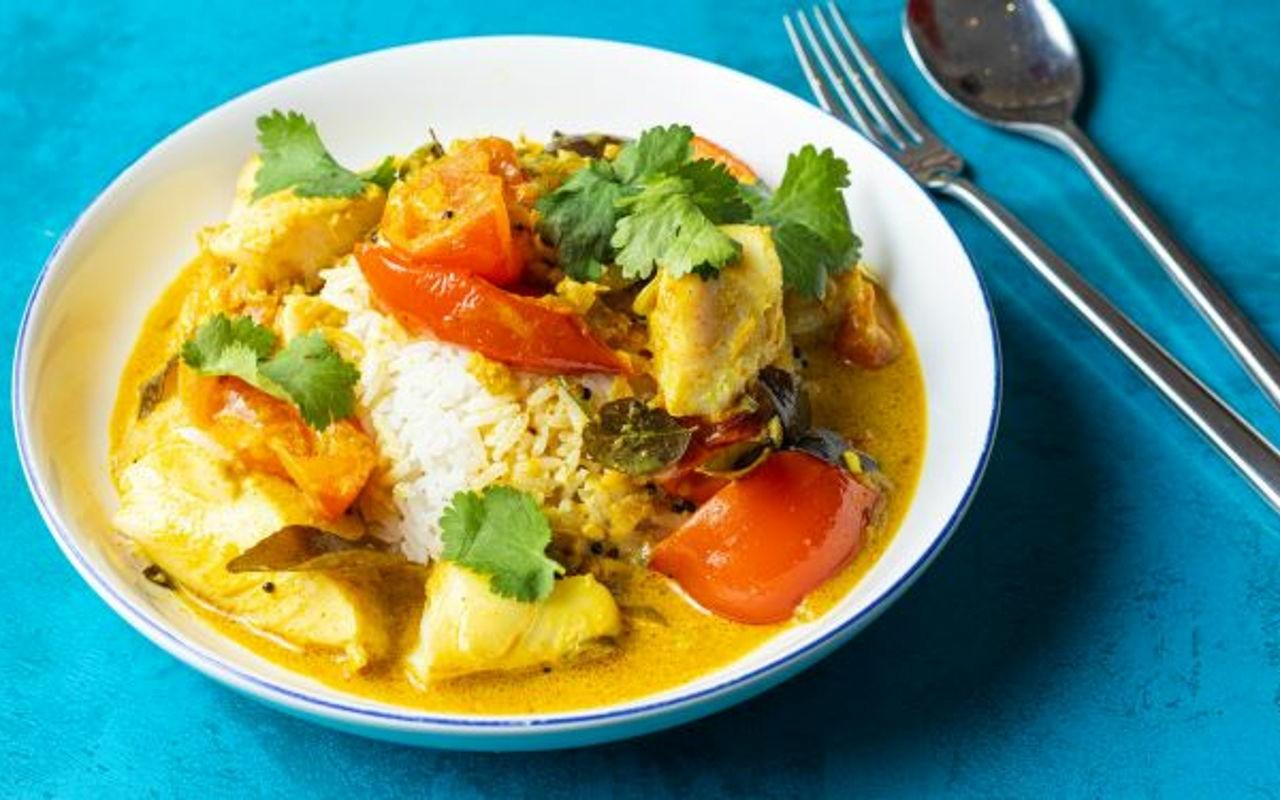FishCurry: (116, 103, 922, 702)
